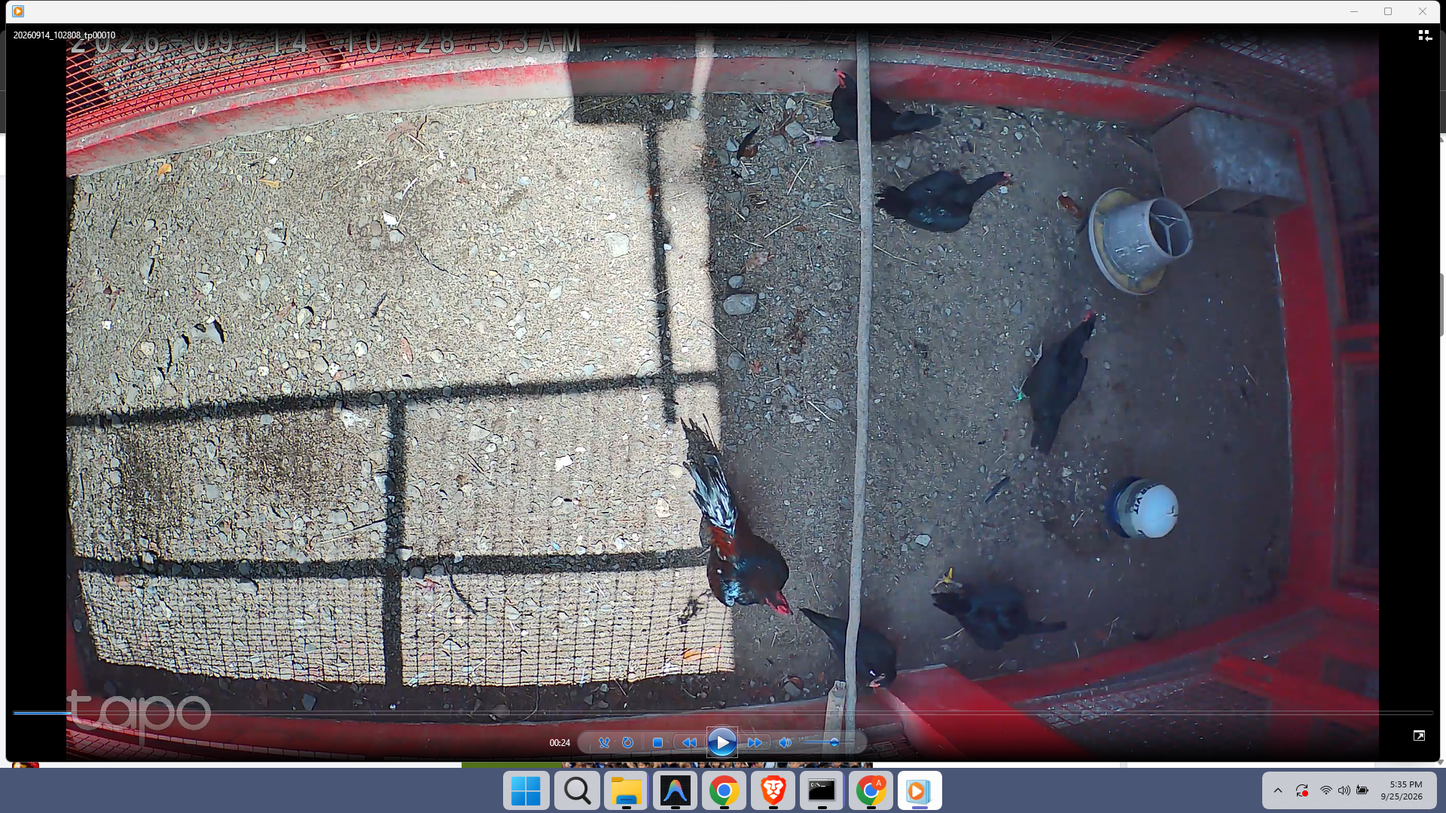Chicken: (1010, 307, 1098, 456), (928, 563, 1069, 653), (795, 67, 942, 148), (874, 168, 1015, 230), (799, 606, 903, 688)
Drinker: (1105, 474, 1178, 540)
Feeder: (1087, 186, 1194, 295)
Rooster: (686, 456, 798, 618)
